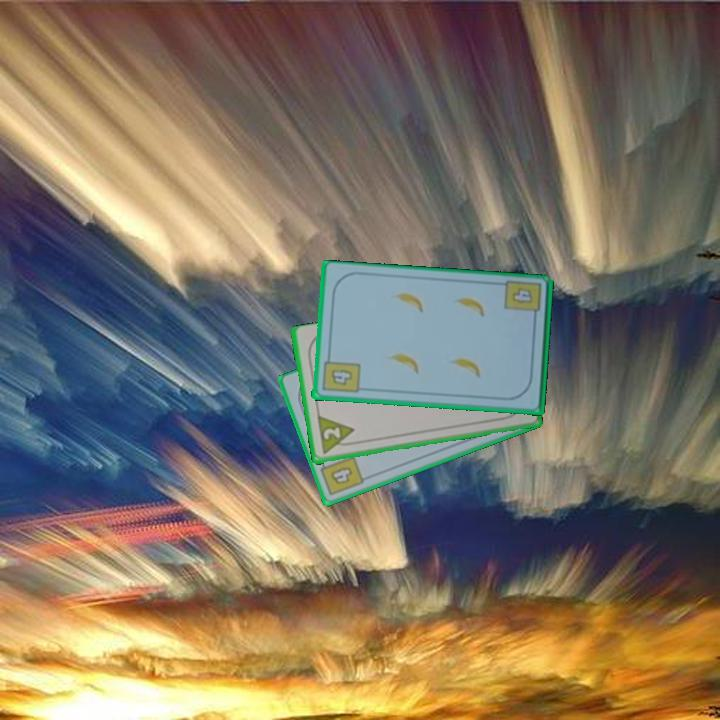2p: (319, 424, 343, 443)
4b: (316, 453, 367, 499), (501, 278, 545, 324), (318, 351, 362, 396)
